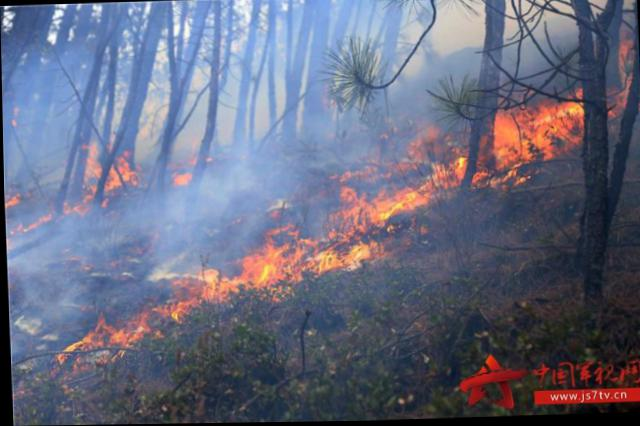fire: (6, 90, 639, 364)
